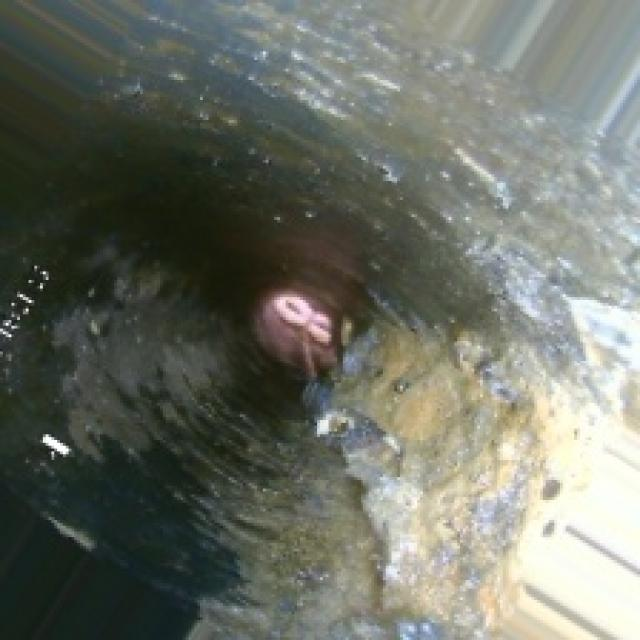sluge accumulation: (334, 352, 603, 637)
